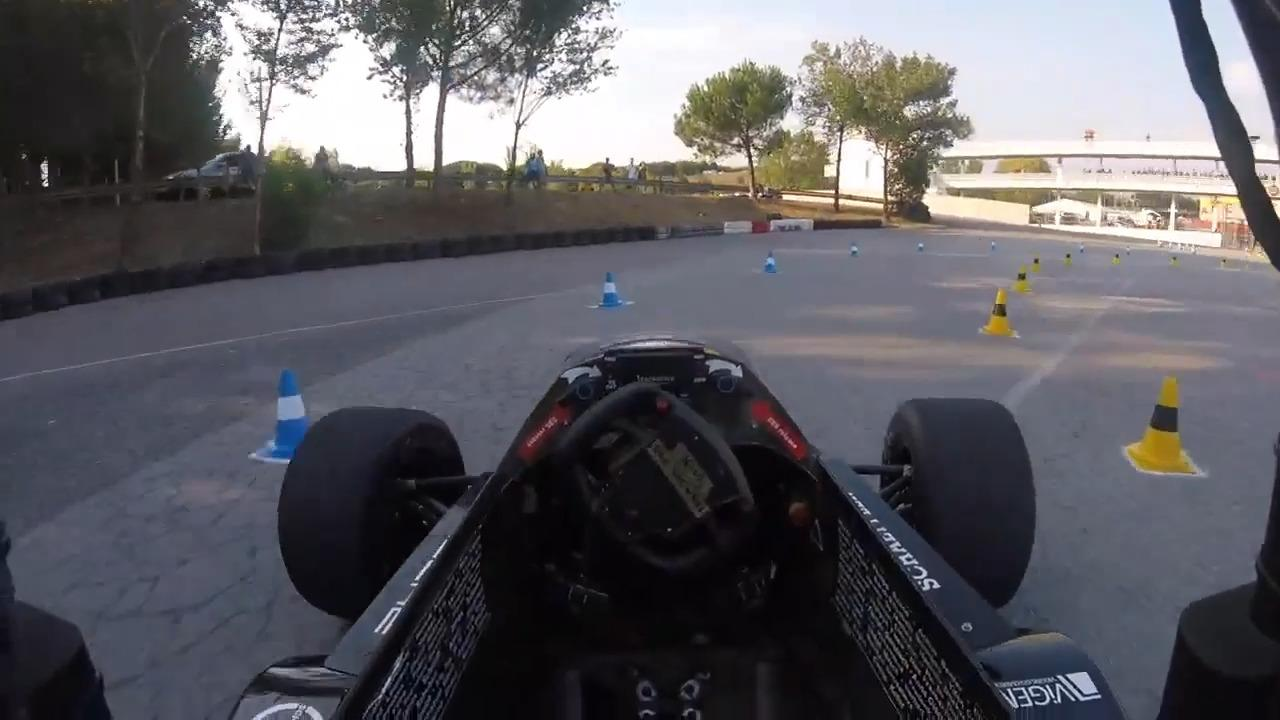blue_cone: (252, 369, 328, 465), (594, 269, 631, 311), (760, 249, 781, 277), (847, 241, 859, 262)
yellow_cone: (1118, 373, 1203, 484), (980, 285, 1019, 340), (1012, 261, 1034, 294), (1028, 248, 1045, 283), (1063, 249, 1075, 272)
